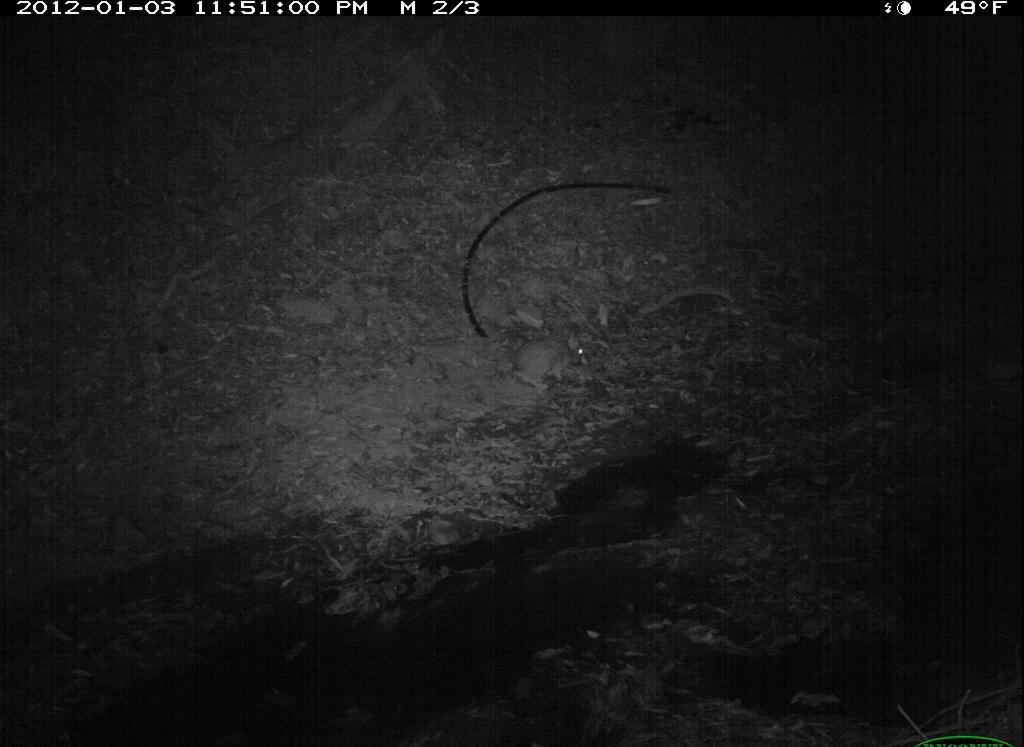rabbit: (481, 328, 611, 390)
